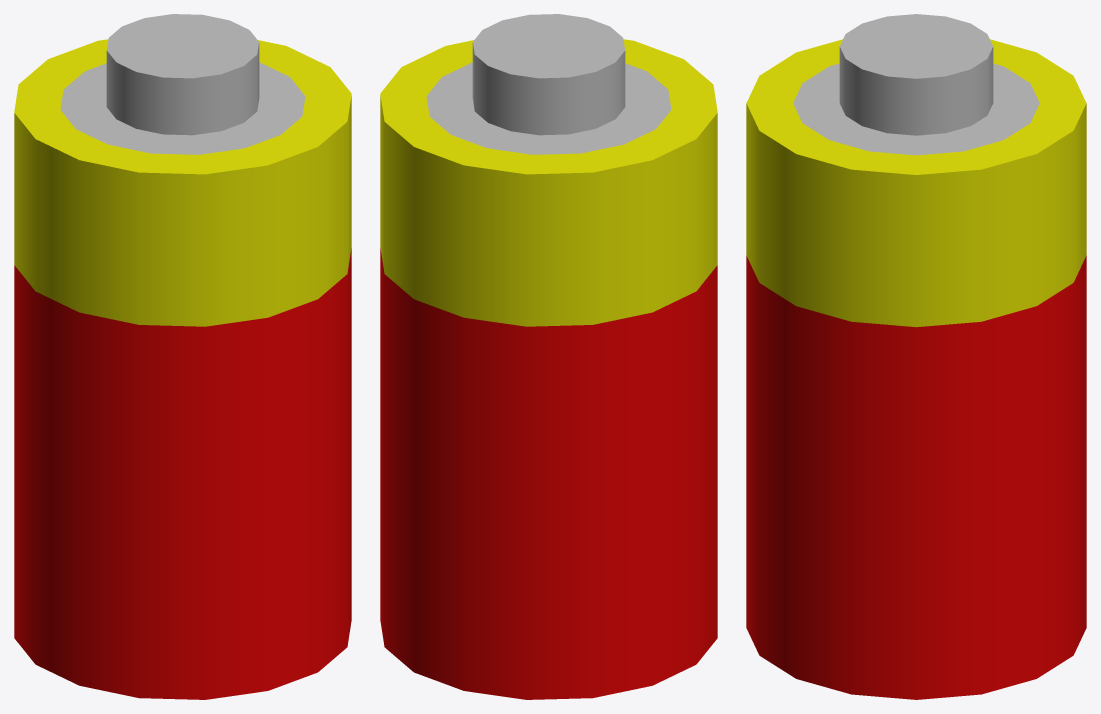
The model's file is Battery.fbx.
3 renders of one model, left to right at view 1: azimuth 30°, elevation 25°; view 2: azimuth 150°, elevation 25°; view 3: azimuth 270°, elevation 25°, orthographic.
Parts seen in each view (by area): view 1: Battery; view 2: Battery; view 3: Battery.
Part boxes in pixels (x1=…): Battery: x1=14, y1=14, x2=351, y2=699; Battery: x1=380, y1=14, x2=717, y2=699; Battery: x1=746, y1=14, x2=1086, y2=699.
Bounding box in the file's own units: 28.61 × 54 × 28.61.
